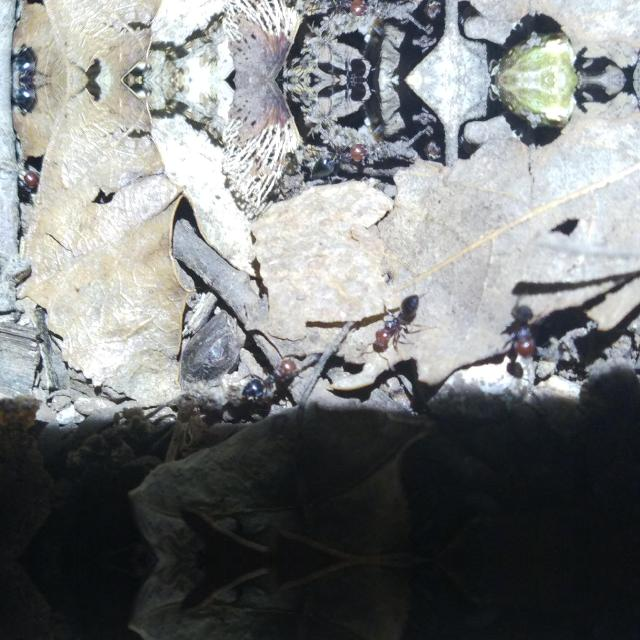Crematogaster: (361, 290, 421, 354), (303, 140, 367, 188), (240, 352, 292, 404), (504, 304, 542, 362), (303, 0, 367, 19)
